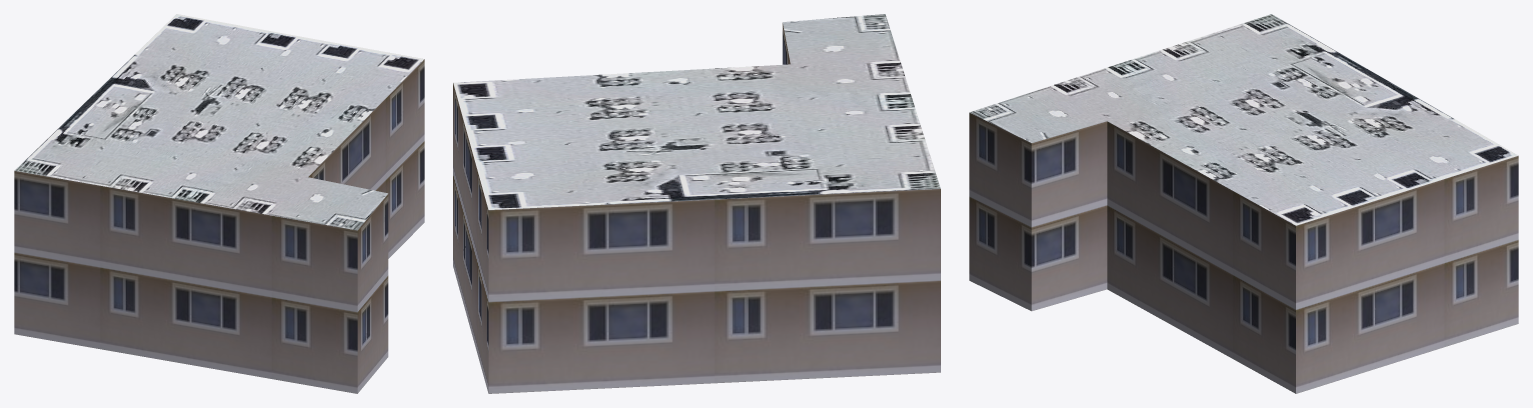
File: ResTex__37.fbx
The picture shows the model from 3 angles, left to right: view 1: azimuth 30°, elevation 25°; view 2: azimuth 150°, elevation 25°; view 3: azimuth 270°, elevation 25°; orthographic projection. The views are drawn at different scales.
Visible parts, largest first — view 1: CityEngineMaterial_21_m, CityEngineMaterial_m; view 2: CityEngineMaterial_21_m, CityEngineMaterial_m; view 3: CityEngineMaterial_21_m, CityEngineMaterial_m.
Part boxes in pixels (x1,y1,x2,y2): CityEngineMaterial_21_m: (14,59,424,393); CityEngineMaterial_m: (15,14,423,230); CityEngineMaterial_21_m: (453,23,940,393); CityEngineMaterial_m: (453,14,940,209); CityEngineMaterial_21_m: (969,112,1518,393); CityEngineMaterial_m: (969,14,1517,225).
Size of the model in its own units: 16.2 by 6 by 17.76.
Materials: 2 (2 with a texture image).
